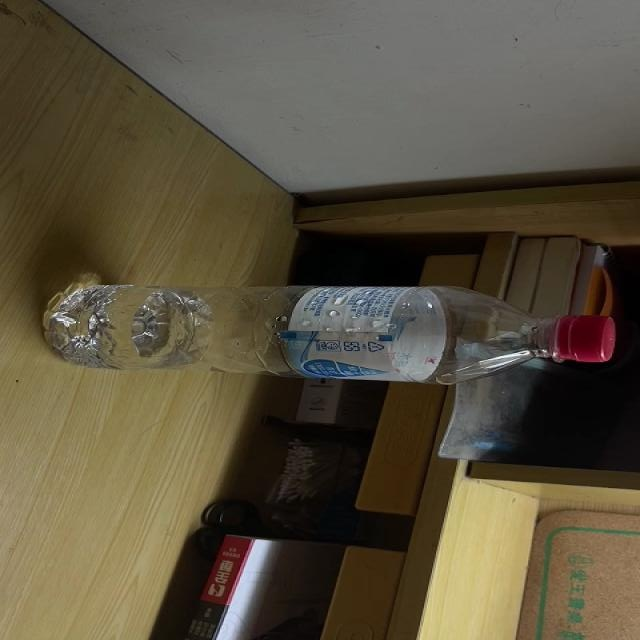Water: (43, 286, 616, 384)
